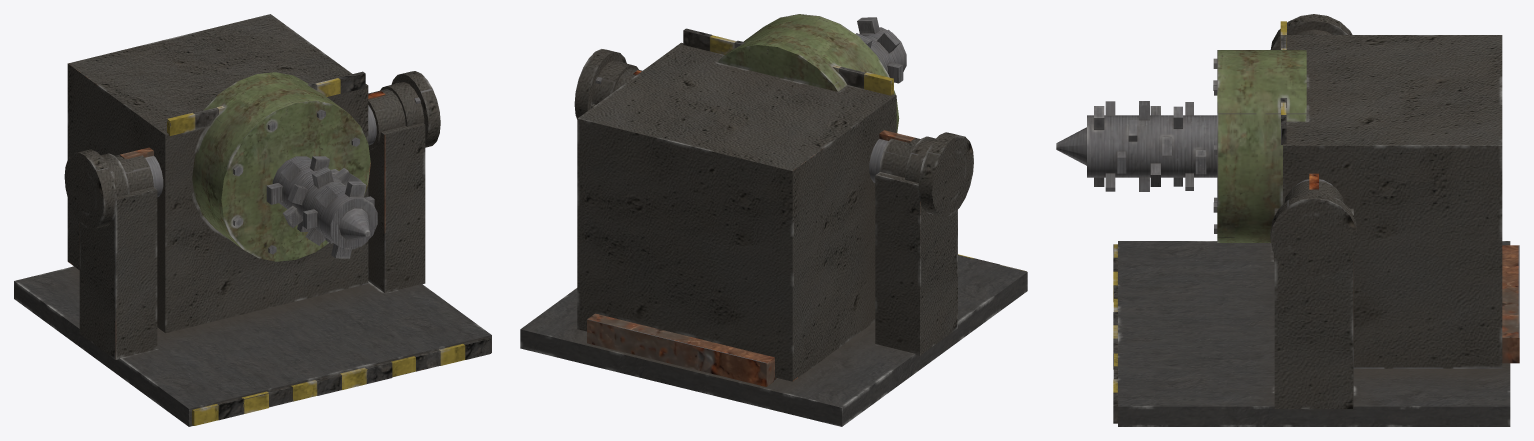
The model's file is feMechDrill_HD.fbx.
3 views of the same model, side by side, from view 1: azimuth 30°, elevation 25°; view 2: azimuth 150°, elevation 25°; view 3: azimuth 270°, elevation 25° (orthographic). The views are drawn at different scales.
Parts seen in each view (by area): view 1: feMechDrill_Base, FeSpin_x2_Bit, FeSpin_DriveShaft; view 2: feMechDrill_Base, FeSpin_DriveShaft, FeSpin_x2_Bit; view 3: feMechDrill_Base, FeSpin_x2_Bit, FeSpin_DriveShaft.
Part boxes in pixels (<box>): feMechDrill_Base: <box>14,14,491,426</box>; FeSpin_x2_Bit: <box>266,156,377,258</box>; FeSpin_DriveShaft: <box>64,71,440,229</box>; feMechDrill_Base: <box>520,14,1027,426</box>; FeSpin_DriveShaft: <box>574,49,973,217</box>; FeSpin_x2_Bit: <box>855,17,906,83</box>; feMechDrill_Base: <box>1113,21,1519,426</box>; FeSpin_x2_Bit: <box>1056,101,1217,191</box>; FeSpin_DriveShaft: <box>1270,14,1357,278</box>.
Size of the model in its own units: 1 by 0.723 by 1.06.
1 material, 1 textured.
